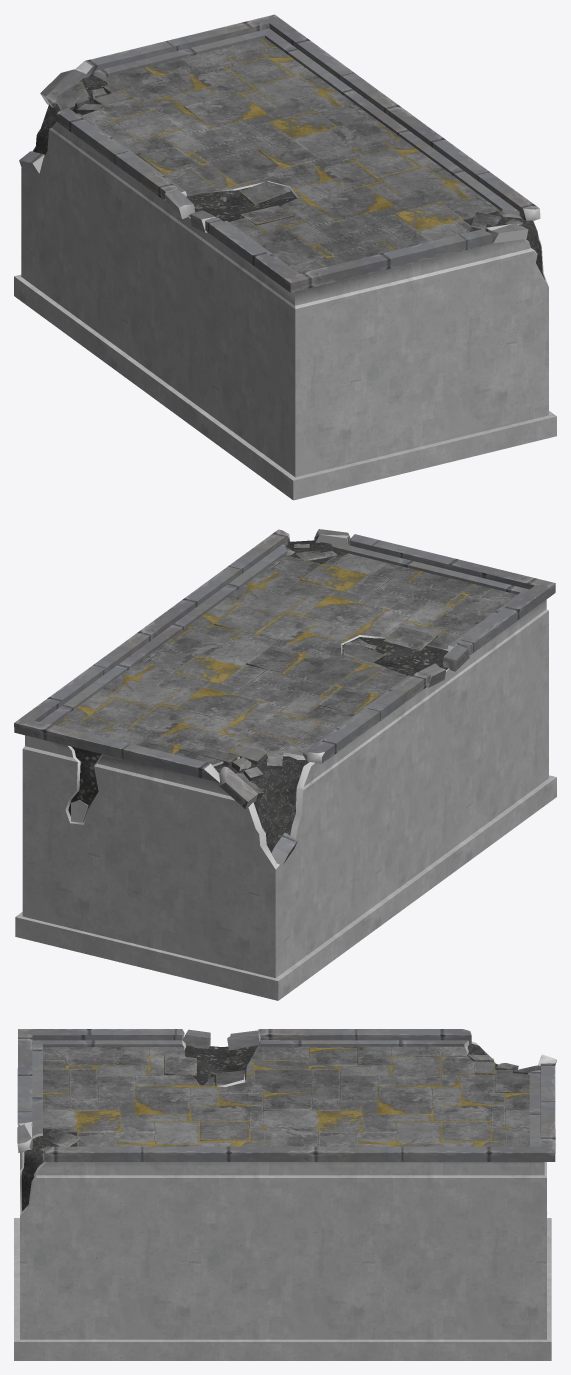
File: SM_Alt_Flo_05AM.fbx
3 views of the same model, one above another, from view 1: azimuth 30°, elevation 25°; view 2: azimuth 150°, elevation 25°; view 3: azimuth 270°, elevation 25° (orthographic). The views are drawn at different scales.
Parts seen in each view (by area): view 1: SM_Alt_Flo_05AM.mo; view 2: SM_Alt_Flo_05AM.mo; view 3: SM_Alt_Flo_05AM.mo.
Boxes of the visible parts, left/top/right/bottom form: SM_Alt_Flo_05AM.mo: left=14, top=14, right=556, bottom=500; SM_Alt_Flo_05AM.mo: left=14, top=529, right=556, bottom=1000; SM_Alt_Flo_05AM.mo: left=14, top=1029, right=556, bottom=1360.
Size of the model in its own units: 6.92 by 5.39 by 12.7.
